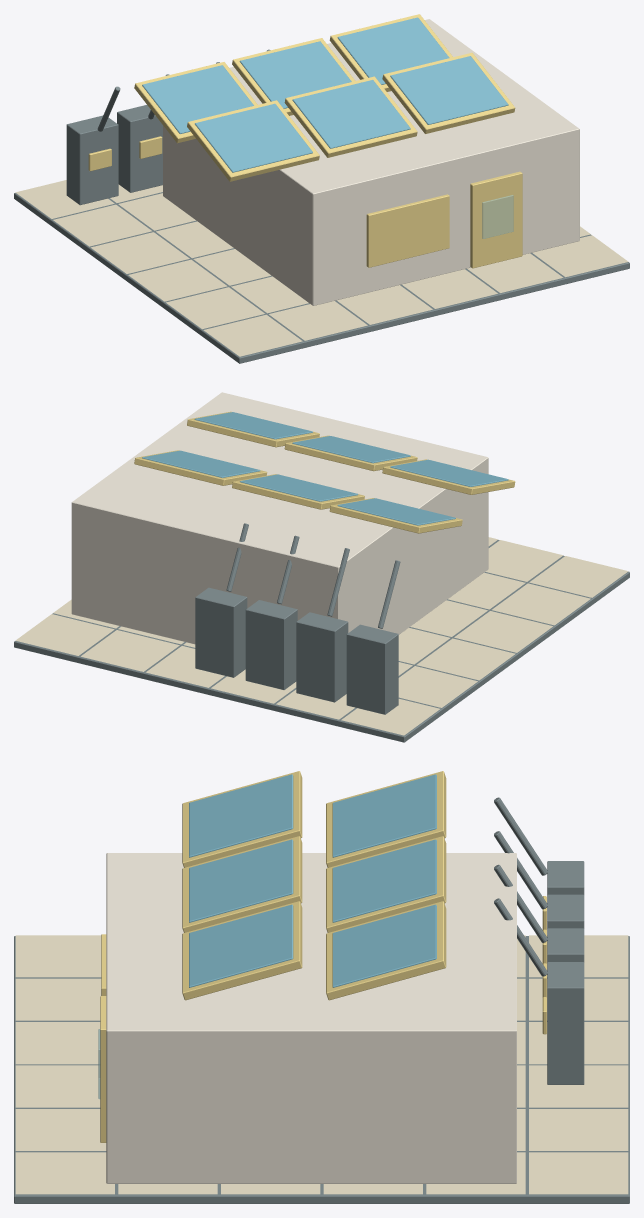
Rendered from b03-sungrid-utility.glb.
3 renders of one model, top to bottom at view 1: azimuth 30°, elevation 25°; view 2: azimuth 150°, elevation 25°; view 3: azimuth 270°, elevation 25°, orthographic. The views are drawn at different scales.
Parts seen in each view (by area): view 1: MM_STR_B03_SUNGRID_UTILITY_A_LOD0; view 2: MM_STR_B03_SUNGRID_UTILITY_A_LOD0; view 3: MM_STR_B03_SUNGRID_UTILITY_A_LOD0.
Boxes of the visible parts, left/top/right/bottom form: MM_STR_B03_SUNGRID_UTILITY_A_LOD0: left=14, top=14, right=629, bottom=363; MM_STR_B03_SUNGRID_UTILITY_A_LOD0: left=14, top=392, right=629, bottom=742; MM_STR_B03_SUNGRID_UTILITY_A_LOD0: left=14, top=771, right=629, bottom=1203.
Size of the model in its own units: 12 by 4.48 by 12.
